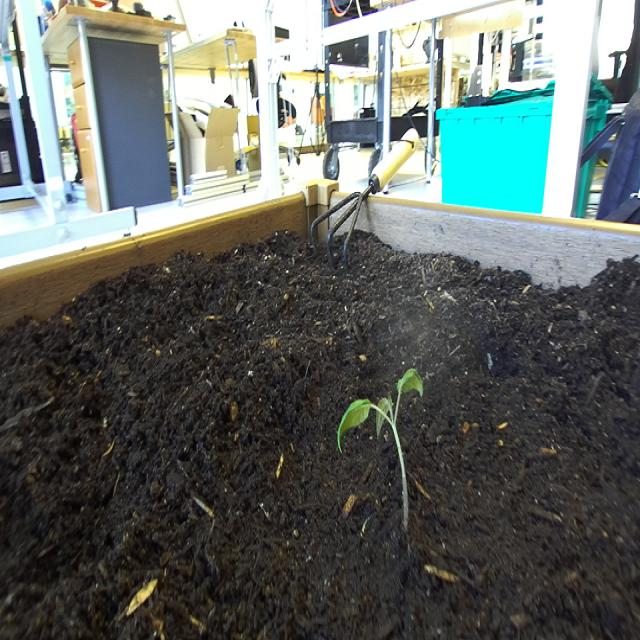Healthy: (333, 363, 427, 536)
